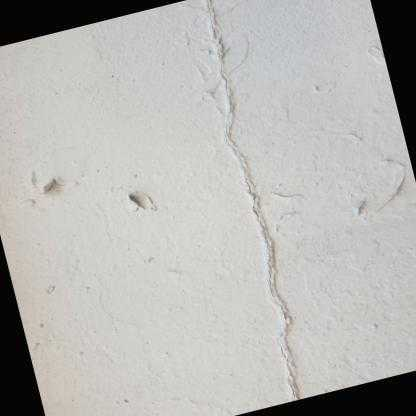crack: (205, 0, 300, 402)
